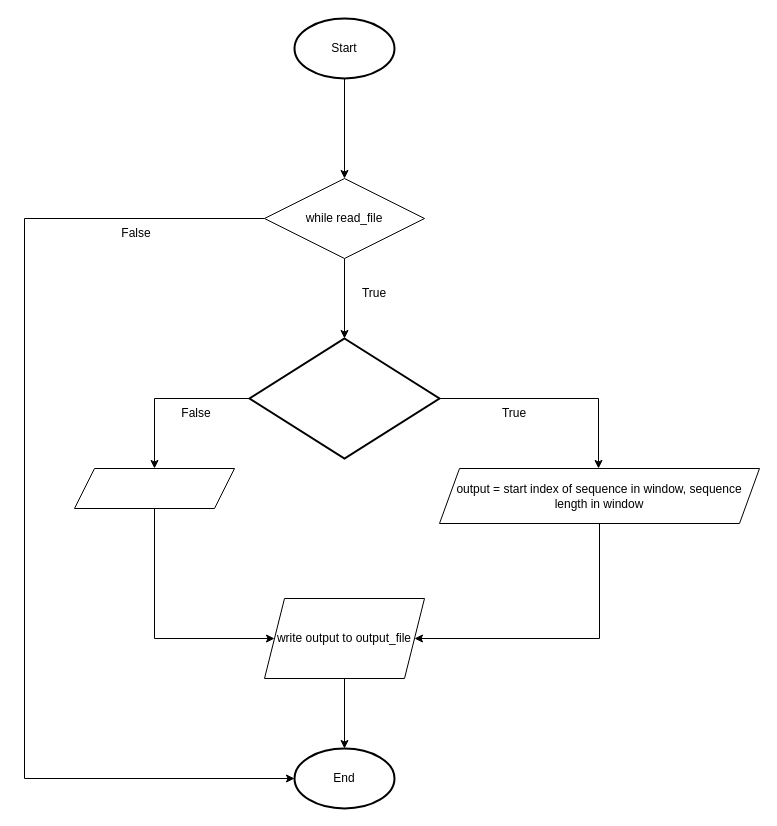
Image size: 777x826. Some labels were removed from this diagram. Each missing label, with the centre of its shape:
"input == sequence in window" belongs at point (344, 398).
"output = input" belongs at point (154, 488).
